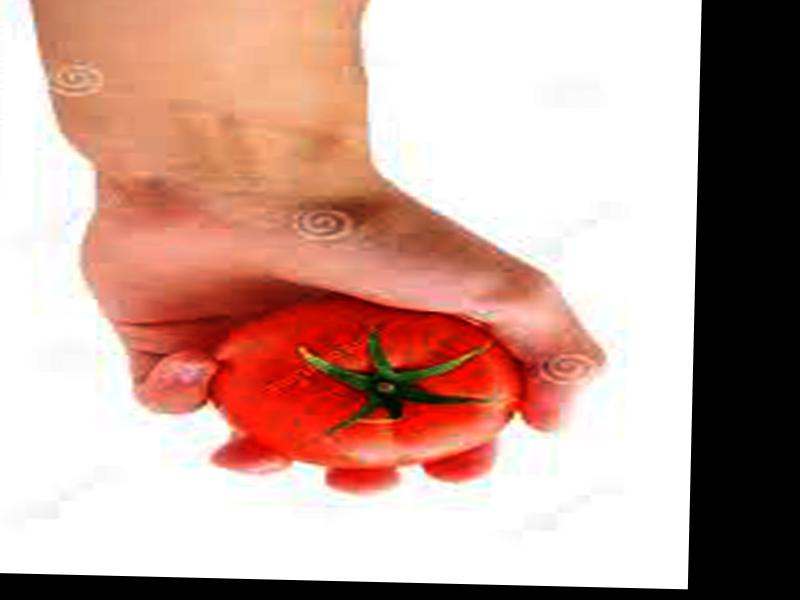Tomato: (205, 299, 519, 472)
